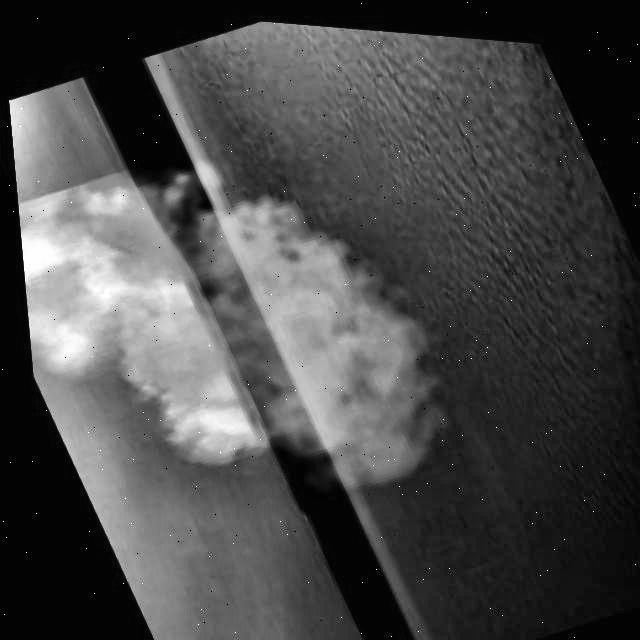Smoke: (13, 83, 493, 575)
